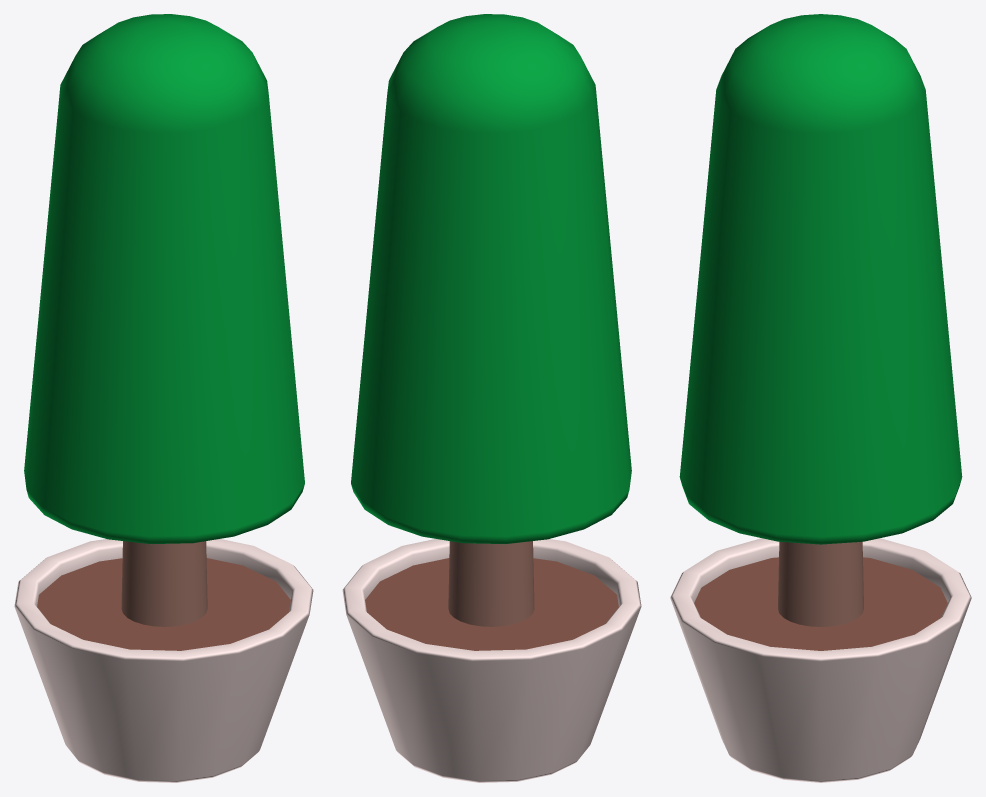
The model's file is City_8_Plant_3.glb.
3 renders of one model, left to right at view 1: azimuth 30°, elevation 25°; view 2: azimuth 150°, elevation 25°; view 3: azimuth 270°, elevation 25°, orthographic.
Parts seen in each view (by area): view 1: City_8_Plant_3; view 2: City_8_Plant_3; view 3: City_8_Plant_3.
Part boxes in pixels (<box>): City_8_Plant_3: <box>14,14,313,782</box>; City_8_Plant_3: <box>342,14,641,782</box>; City_8_Plant_3: <box>670,14,971,782</box>.
Size of the model in its own units: 0.7538 by 1.96 by 0.7538.
1 material, 1 textured.
